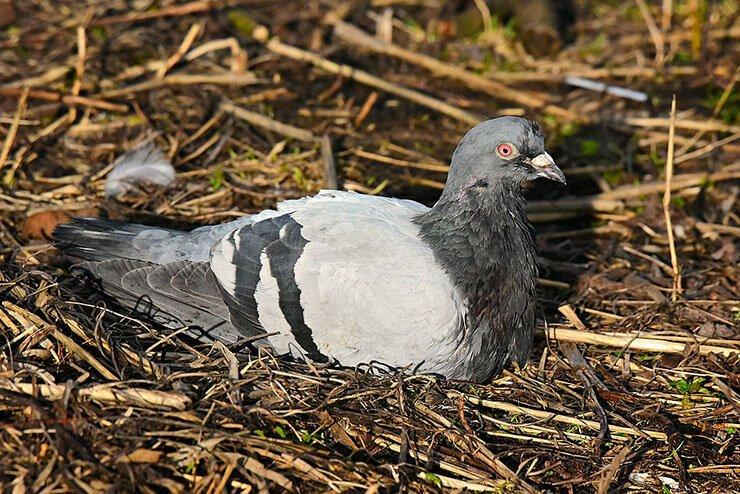Flying Rat: (57, 107, 557, 371)
